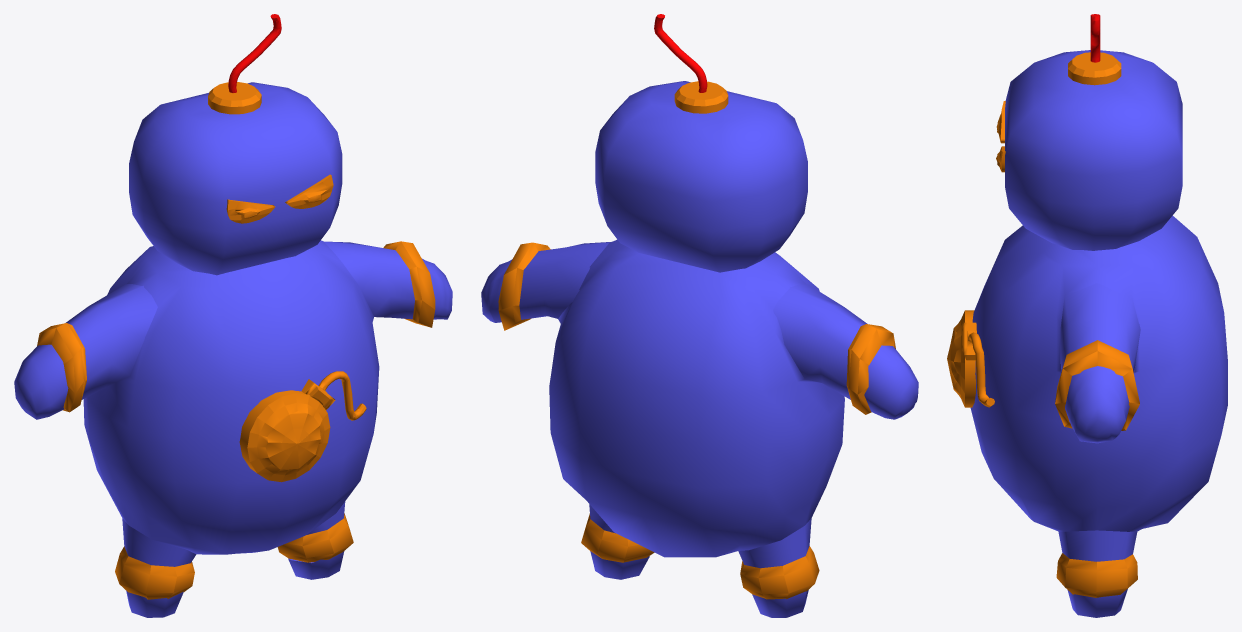
The model's file is KamikazeDefinitivo.FBX.
3 views of the same model, side by side, from view 1: azimuth 30°, elevation 25°; view 2: azimuth 150°, elevation 25°; view 3: azimuth 270°, elevation 25° (orthographic).
Parts seen in each view (by area): view 1: Object007; view 2: Object007; view 3: Object007.
Part boxes in pixels (<box>): Object007: <box>14,14,452,617</box>; Object007: <box>481,14,918,617</box>; Object007: <box>947,14,1227,617</box>.
Bounding box in the file's own units: 2.28 × 1.27 × 2.88.
